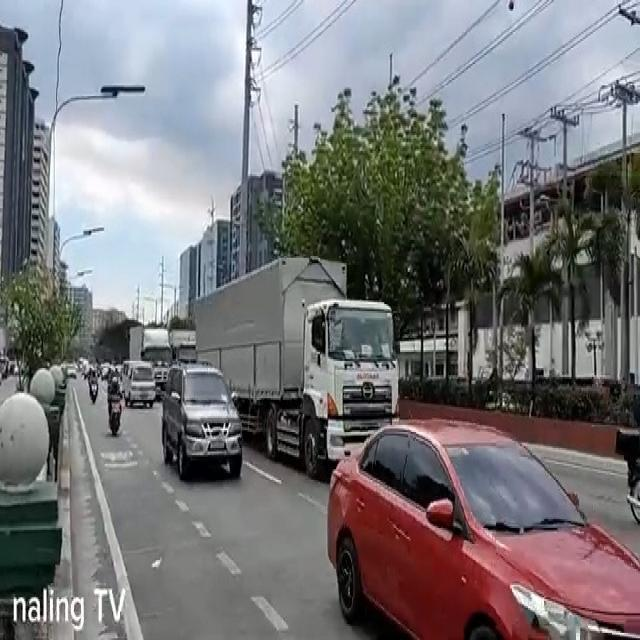car: (326, 415, 640, 640), (162, 364, 242, 481)
motorcycle: (108, 376, 124, 437), (89, 368, 100, 408)
truck: (192, 254, 400, 477), (129, 326, 171, 396), (170, 326, 198, 366)
